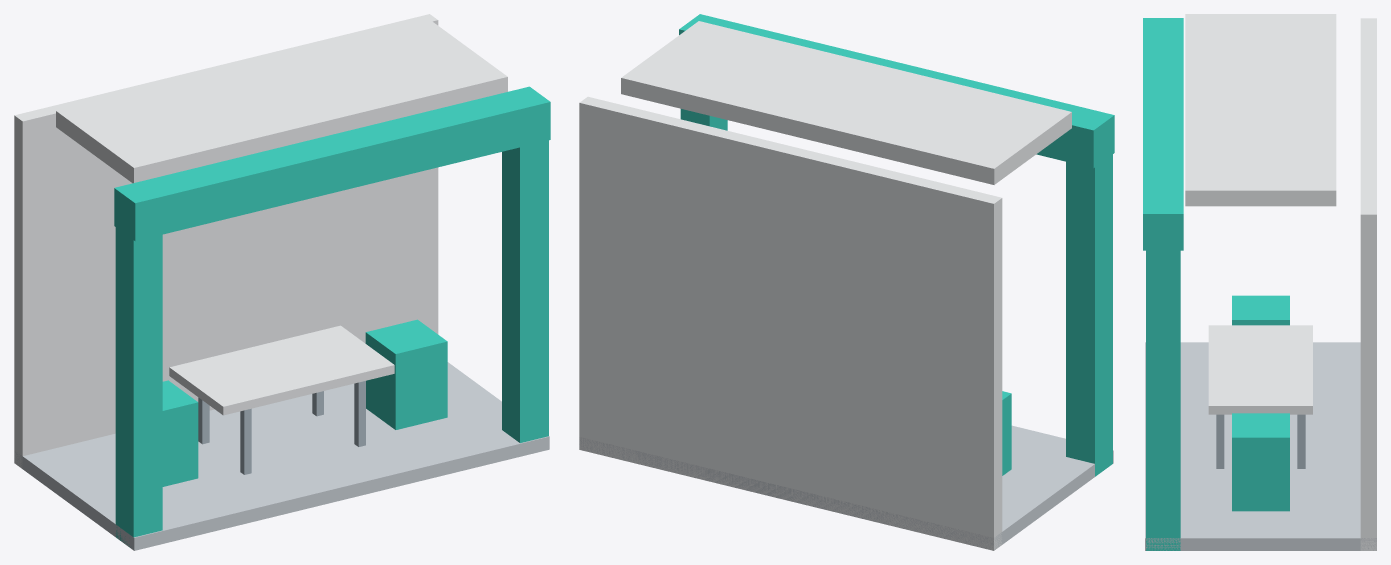
The picture shows the model from 3 angles, left to right: view 1: azimuth 30°, elevation 25°; view 2: azimuth 150°, elevation 25°; view 3: azimuth 270°, elevation 25°; orthographic projection. The views are drawn at different scales.
Visible parts, largest first — view 1: Exhibition Booth Concept; view 2: Exhibition Booth Concept; view 3: Exhibition Booth Concept.
Boxes of the visible parts, box(x1,y1,x2,y2) form: Exhibition Booth Concept: box(14, 14, 550, 550); Exhibition Booth Concept: box(579, 14, 1114, 550); Exhibition Booth Concept: box(1143, 14, 1376, 550).
Bounding box in the file's own units: 4 × 3.34 × 2.01.
